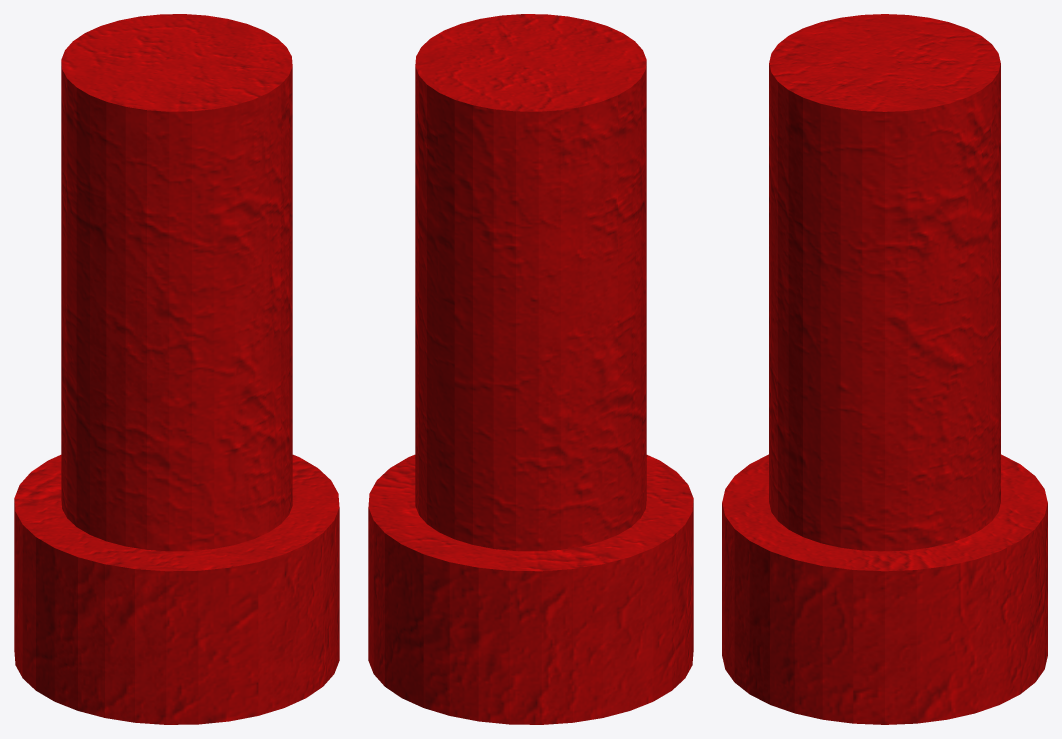
The model's file is vrc_standpipe.dae.
3 renders of one model, left to right at view 1: azimuth 30°, elevation 25°; view 2: azimuth 150°, elevation 25°; view 3: azimuth 270°, elevation 25°, orthographic.
Parts seen in each view (by area): view 1: Cylinder; view 2: Cylinder; view 3: Cylinder.
Boxes of the visible parts, x1,y1,x2,y2 form: Cylinder: (14, 14, 339, 724); Cylinder: (368, 14, 693, 724); Cylinder: (722, 14, 1047, 724).
Bounding box in the file's own units: 0.1935 × 0.1935 × 0.3888.
